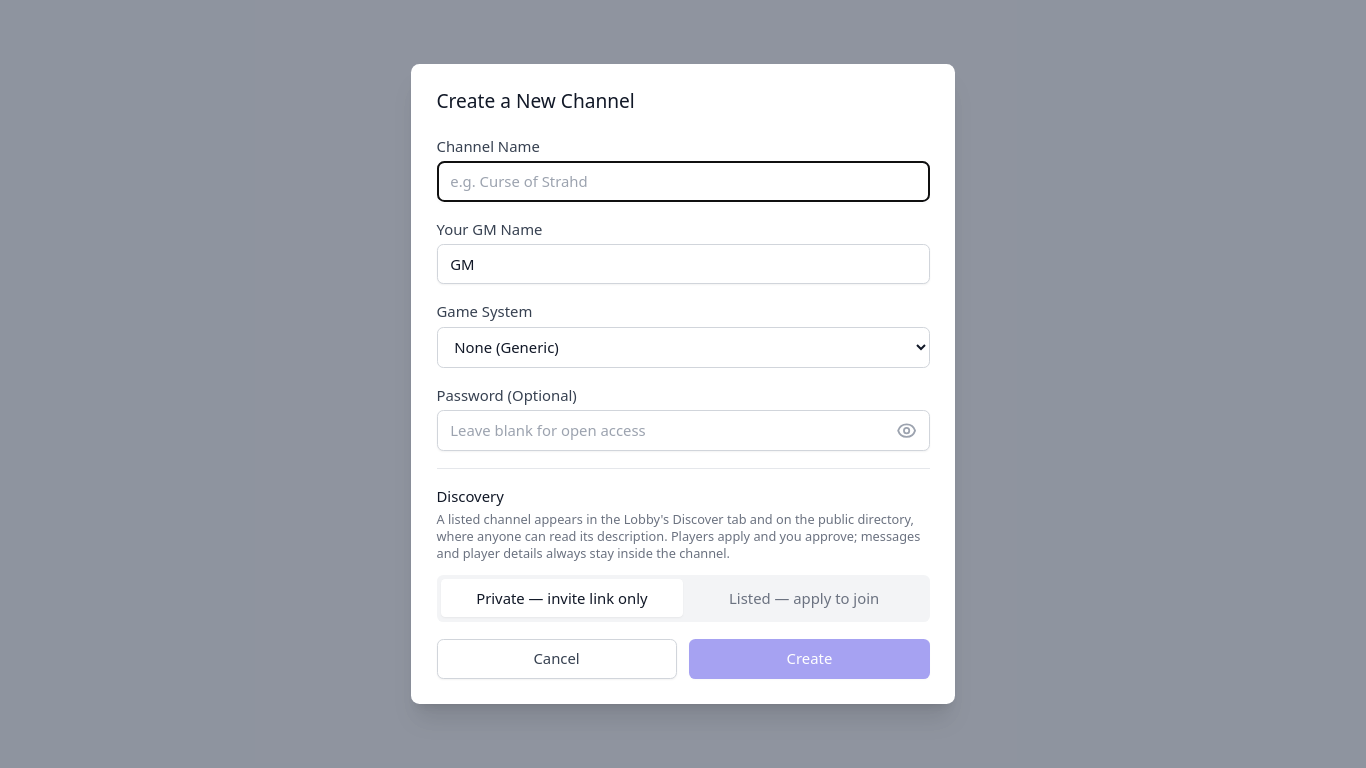
Test: CreateChannelModal › listing at creation (#722) › refuses a listed channel without description and constraints
The width and height of the screenshot is (1366, 768).
Type "New Game" into the field labelled "Channel Name" at (683,182), box [436,161,930,202]
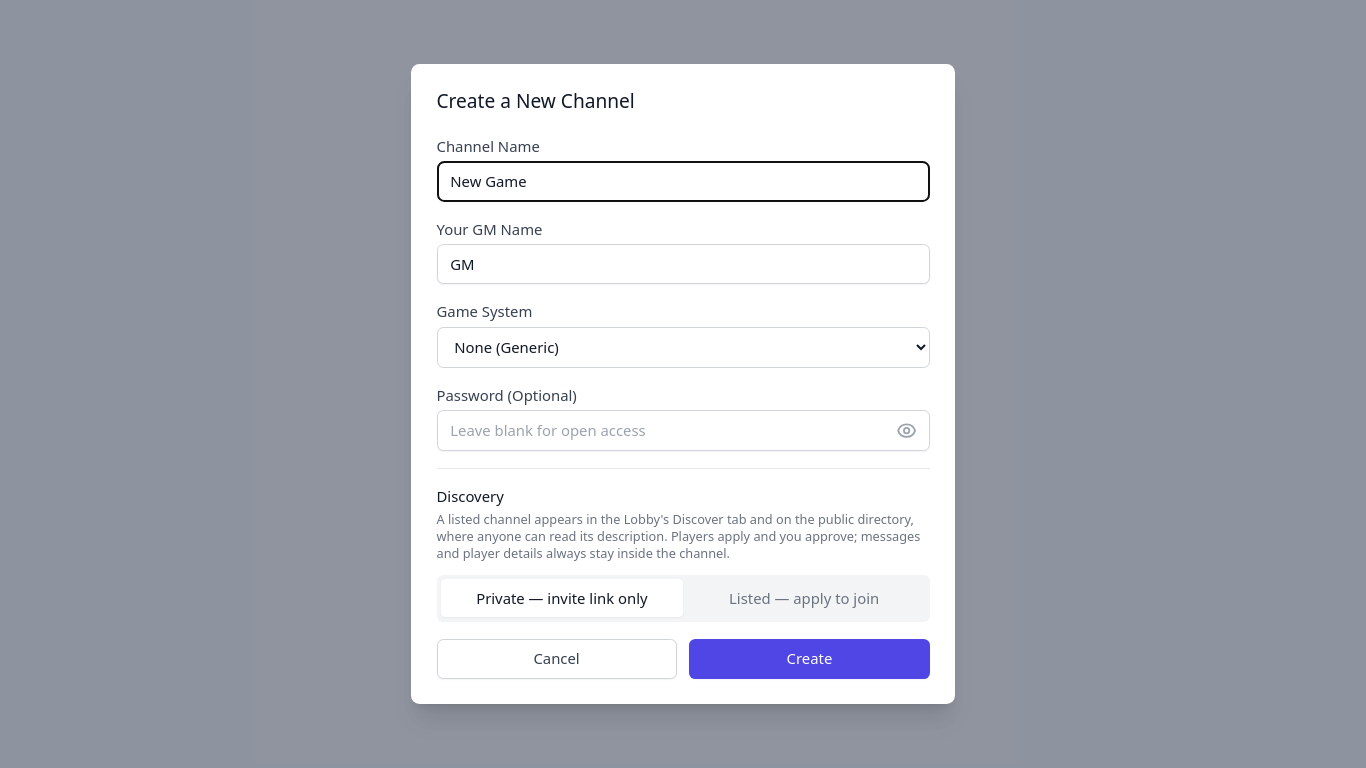
Click the button "Listed — apply to join" at (804,598), box [683,579,925,617]
(page scrolled)
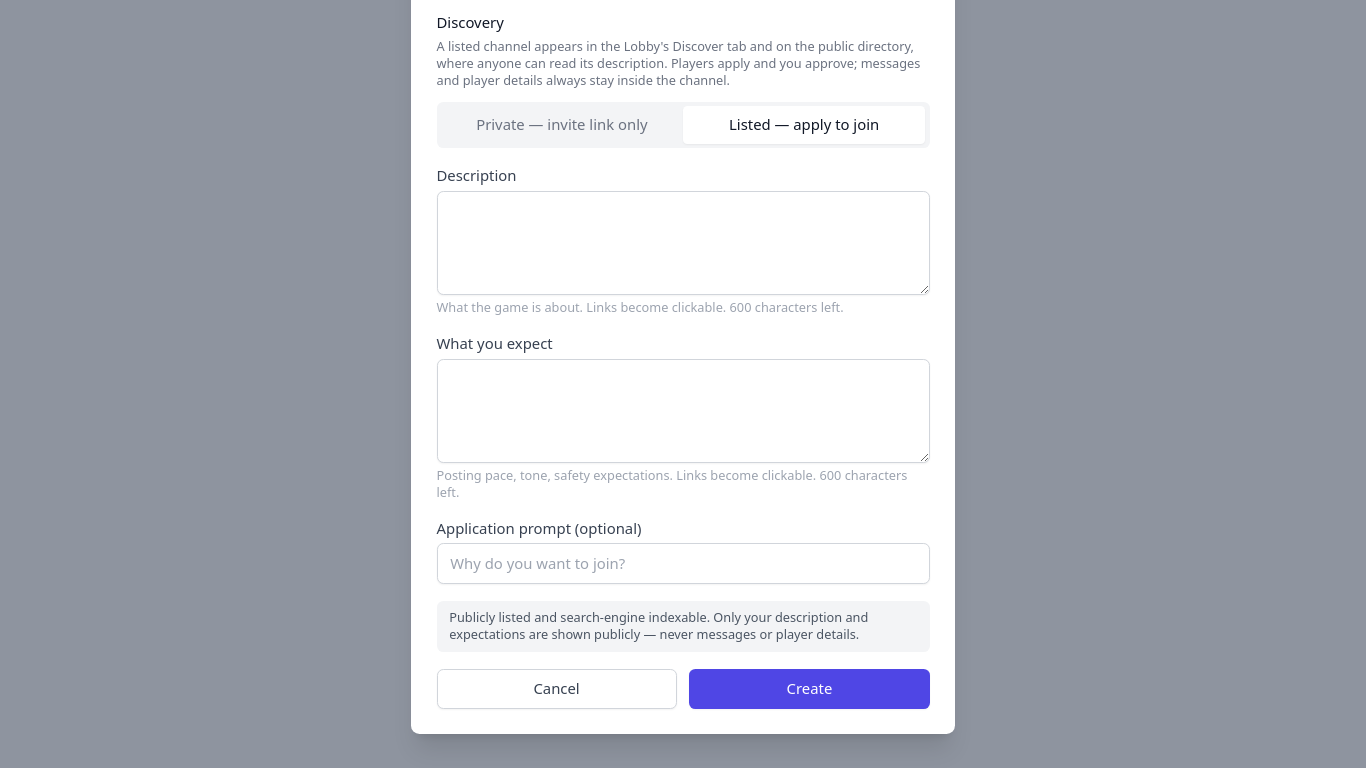
Click the button "Create" at (809,689), box [689,668,930,709]
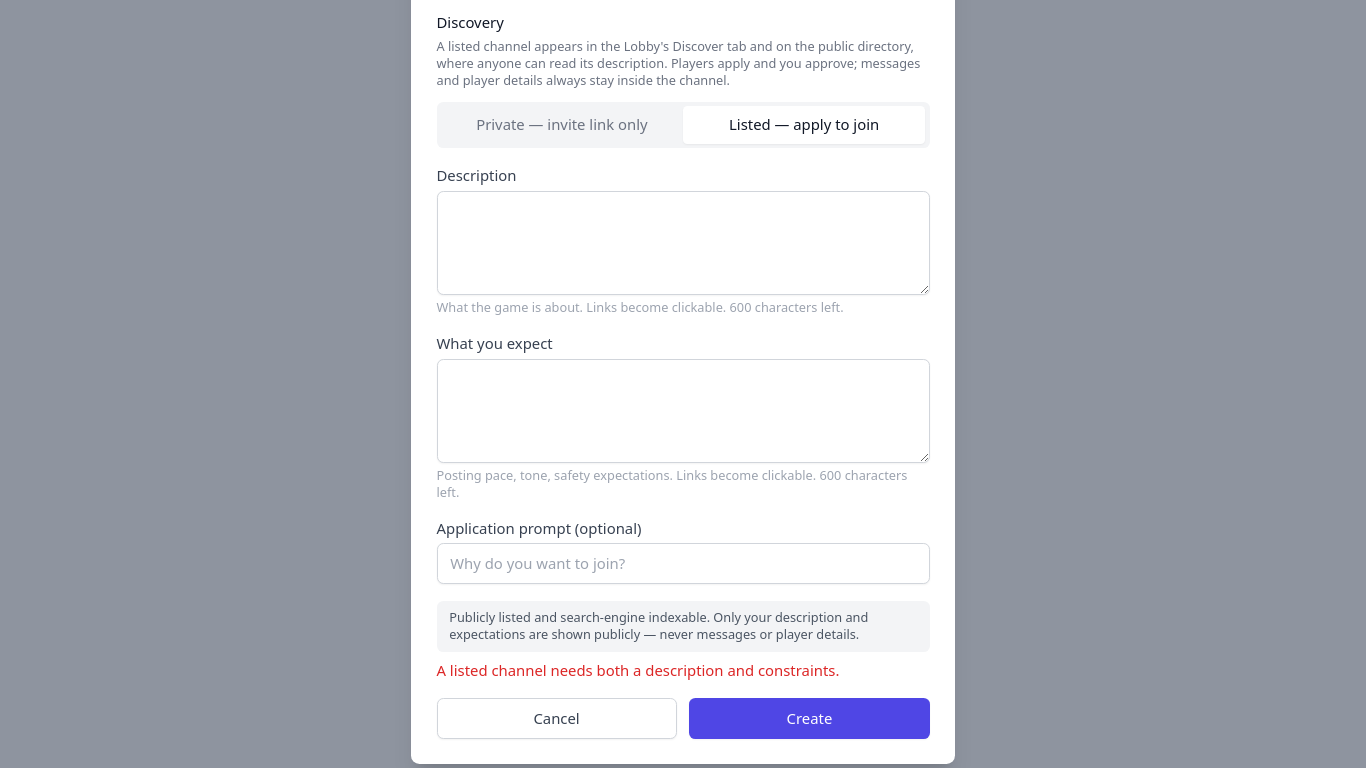
Check: the text "A listed channel needs both a description and constraints." is shown, box [436,660,839,680]
